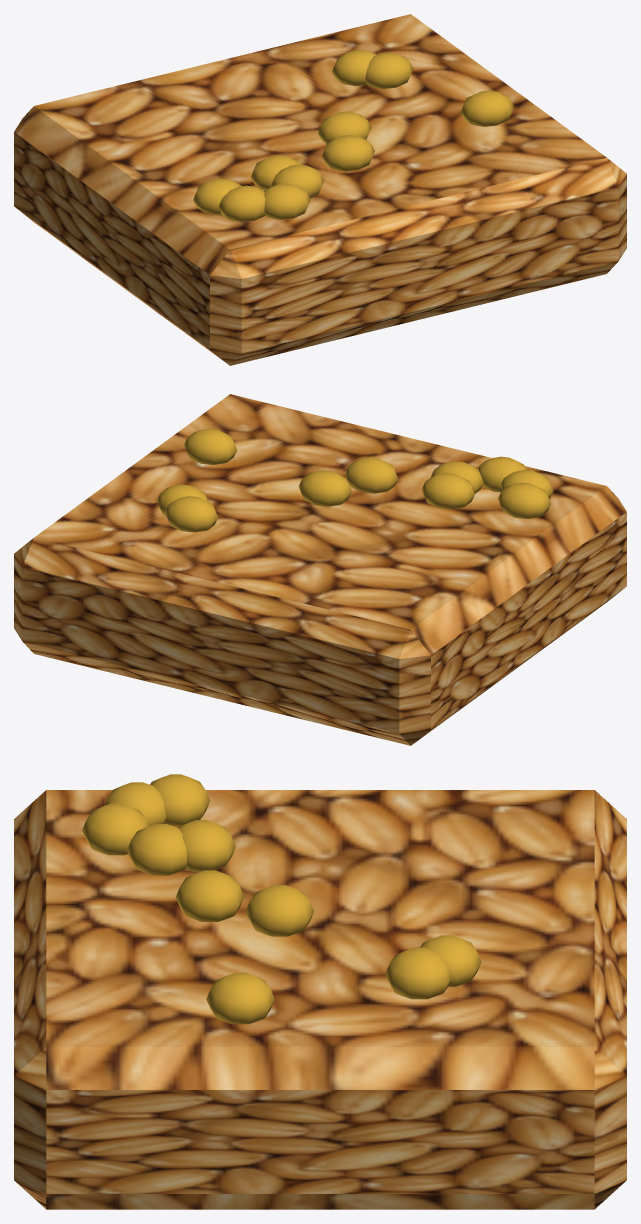
The model's file is CoopCozy_Fill3.fbx.
3 views of the same model, one above another, from view 1: azimuth 30°, elevation 25°; view 2: azimuth 150°, elevation 25°; view 3: azimuth 270°, elevation 25° (orthographic). The views are drawn at different scales.
Parts seen in each view (by area): view 1: CoopCozy_Fill3; view 2: CoopCozy_Fill3; view 3: CoopCozy_Fill3.
Part boxes in pixels (x1=…): CoopCozy_Fill3: x1=14, y1=14, x2=626, y2=365; CoopCozy_Fill3: x1=14, y1=394, x2=626, y2=745; CoopCozy_Fill3: x1=14, y1=774, x2=626, y2=1209.
Bounding box in the file's own units: 0.45 × 0.146 × 0.41.
